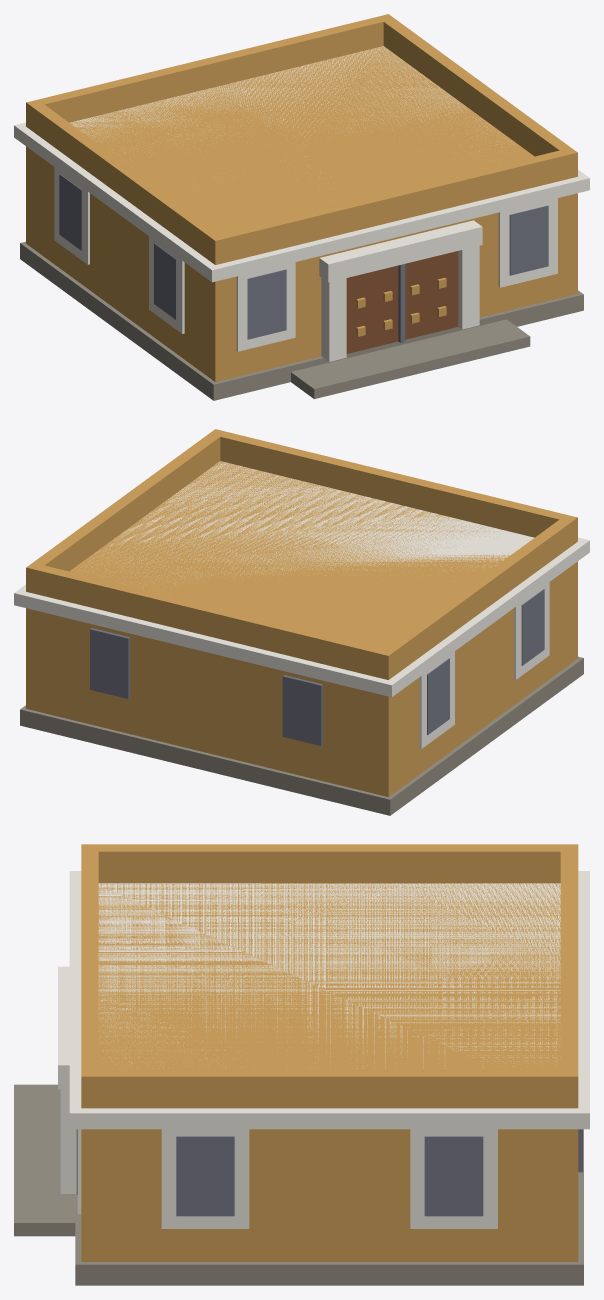
The model's file is house-1x1-1f-quincha-a.glb.
The picture shows the model from 3 angles, top to bottom: view 1: azimuth 30°, elevation 25°; view 2: azimuth 150°, elevation 25°; view 3: azimuth 270°, elevation 25°; orthographic projection. The views are drawn at different scales.
Parts seen in each view (by area): view 1: house-1x1-1f-quincha-a; view 2: house-1x1-1f-quincha-a; view 3: house-1x1-1f-quincha-a.
Boxes of the visible parts, x1=… form: house-1x1-1f-quincha-a: x1=14, y1=14, x2=589, y2=400; house-1x1-1f-quincha-a: x1=14, y1=429, x2=589, y2=815; house-1x1-1f-quincha-a: x1=14, y1=844, x2=589, y2=1285.
Bounding box in the file's own units: 0.98 × 0.39 × 0.985.
Materials: 1 (1 with a texture image).
